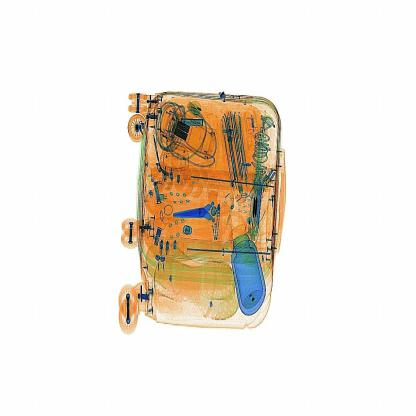gun: (172, 181, 239, 244)
